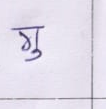u_matra: (23, 50, 43, 62)
